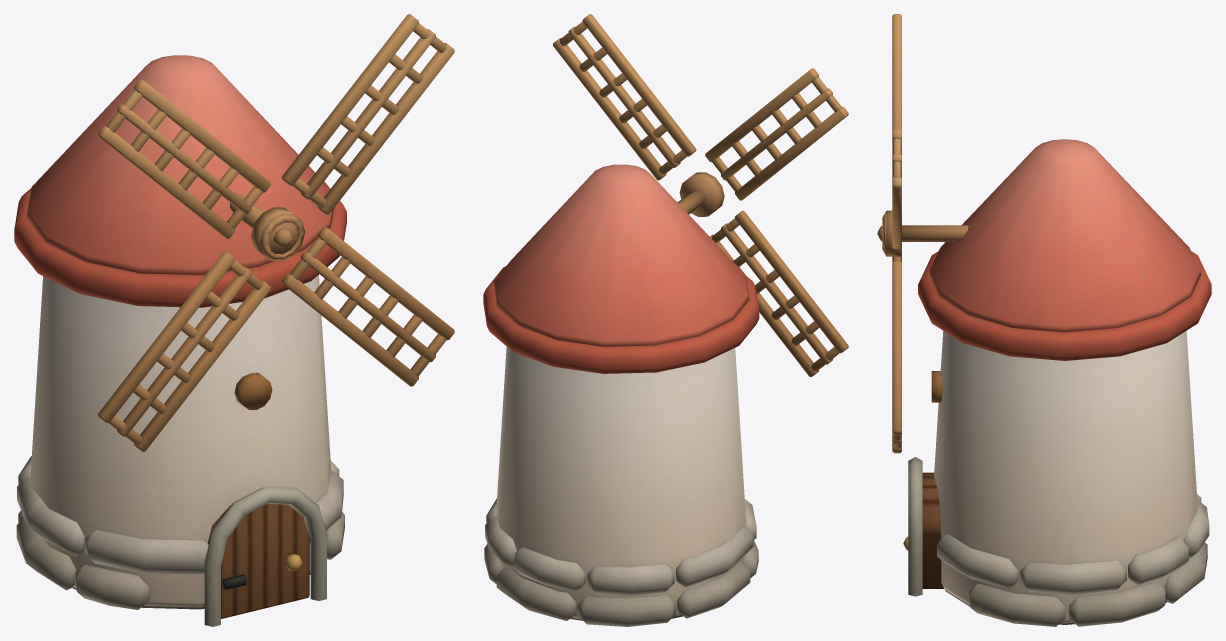
Rendered from mill_2_mid.glb.
The picture shows the model from 3 angles, left to right: view 1: azimuth 30°, elevation 25°; view 2: azimuth 150°, elevation 25°; view 3: azimuth 270°, elevation 25°; orthographic projection. The views are drawn at different scales.
Visible parts, largest first — view 1: mill_2, sails; view 2: mill_2, sails; view 3: mill_2, sails.
Part boxes in pixels (x1,y1,x2,y2): mill_2: (14, 55, 346, 626); sails: (98, 14, 454, 451); mill_2: (483, 164, 759, 626); sails: (553, 14, 848, 377); mill_2: (902, 139, 1211, 626); sails: (877, 14, 901, 453).
Bounding box in the file's own units: 1.33 × 2.05 × 1.25.
Materials: 1 (1 with a texture image).
